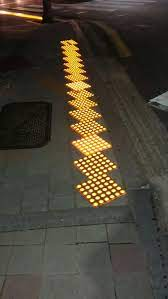guide_blocks: (61, 39, 124, 203), (1, 11, 41, 20)
